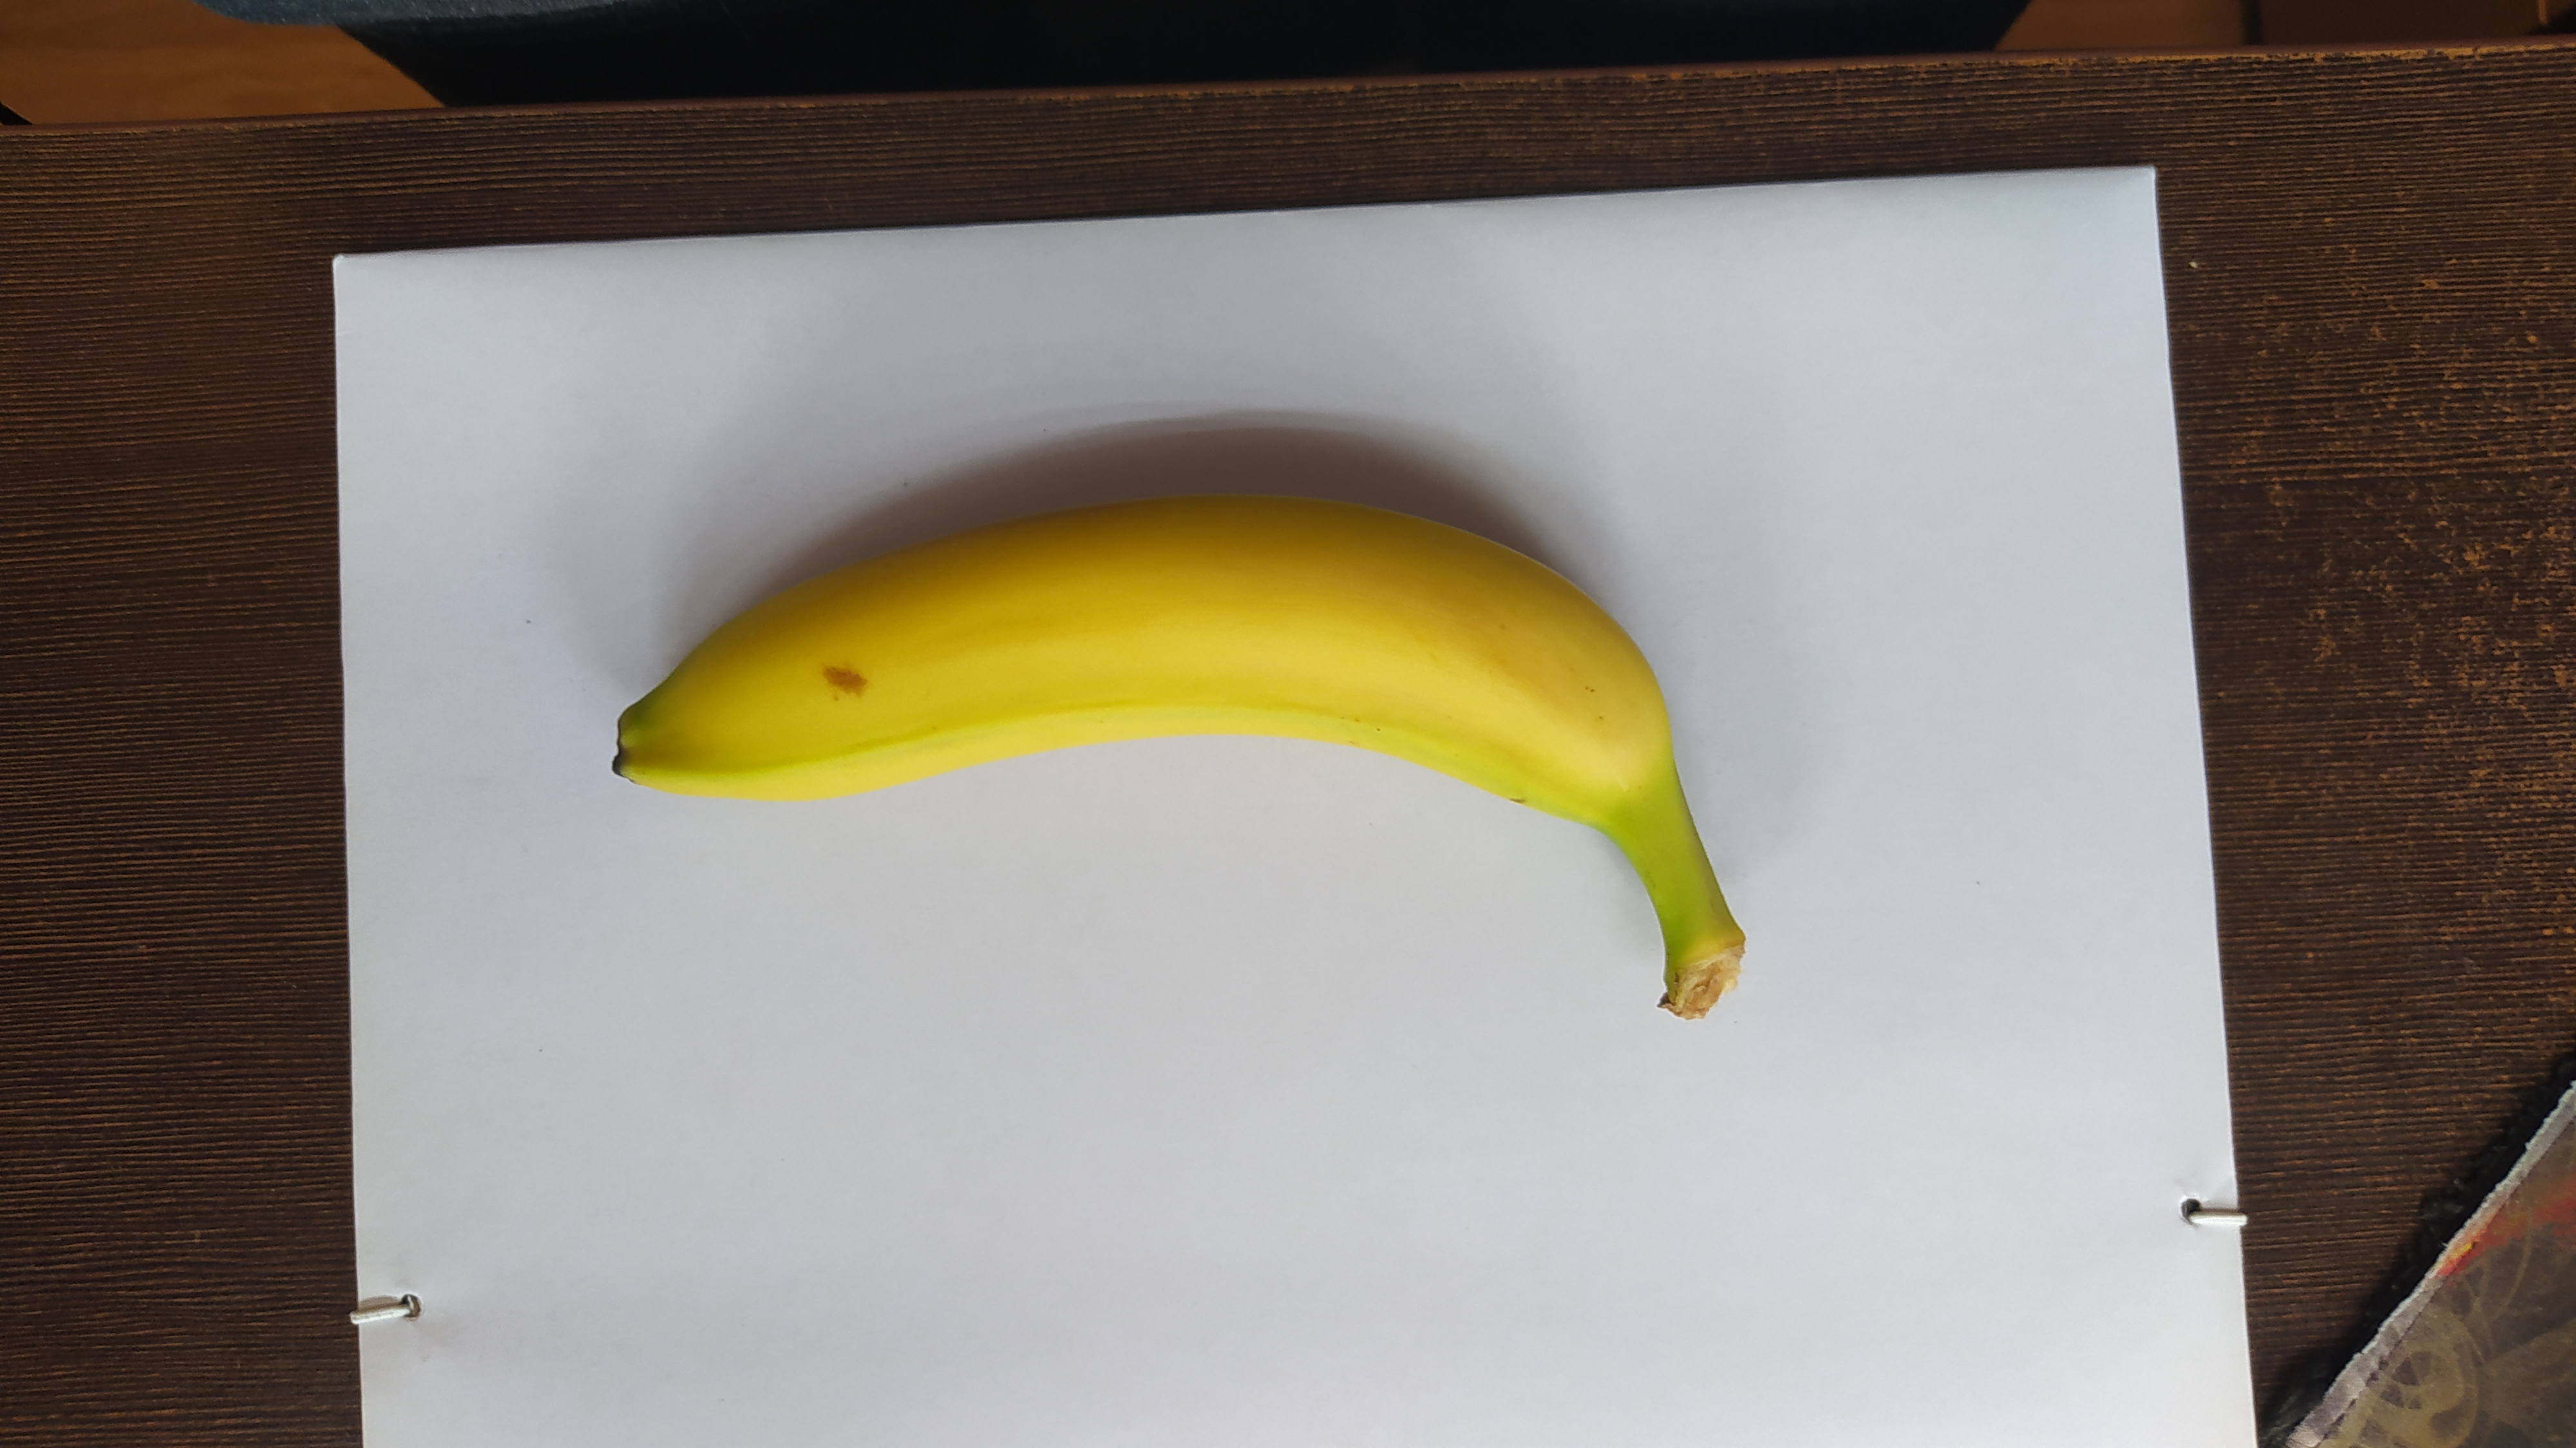banana: (609, 492, 1748, 1023)
